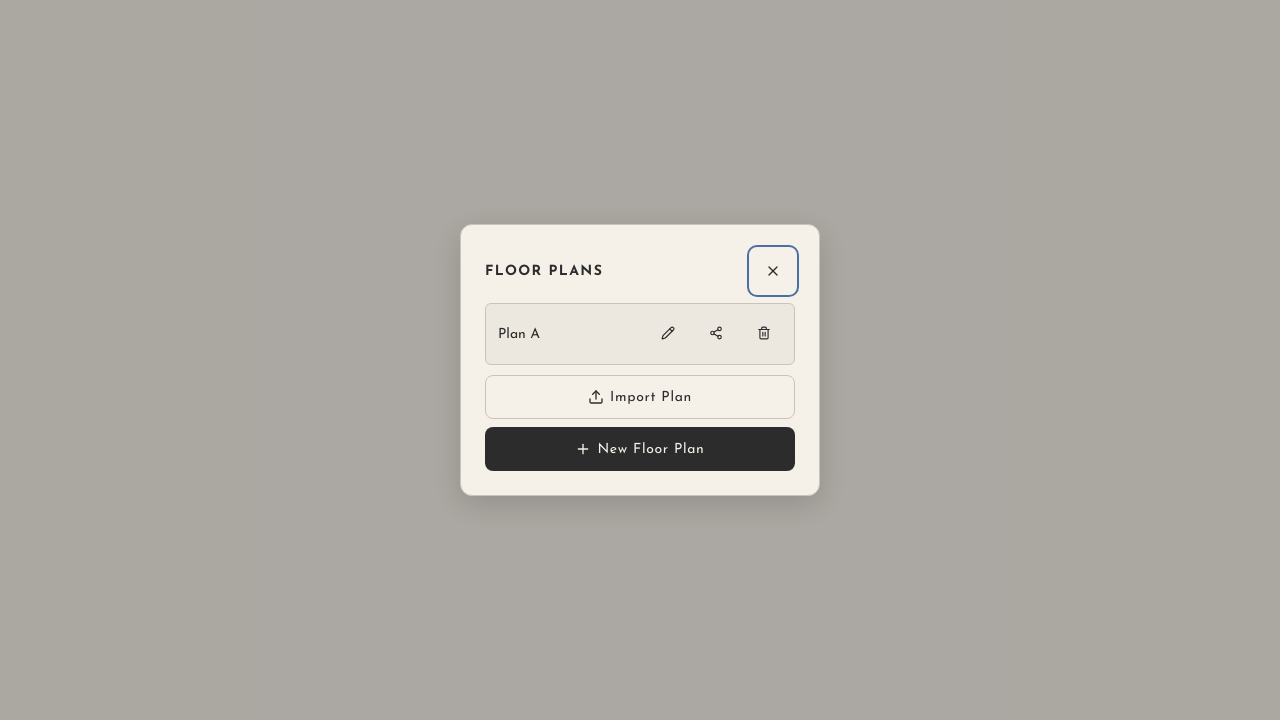
FloorplanManager › shows rename input when rename button is clicked
The width and height of the screenshot is (1280, 720).
Click the button named "Rename \"Plan A\"" at (668, 334), box [646,312,690,356]
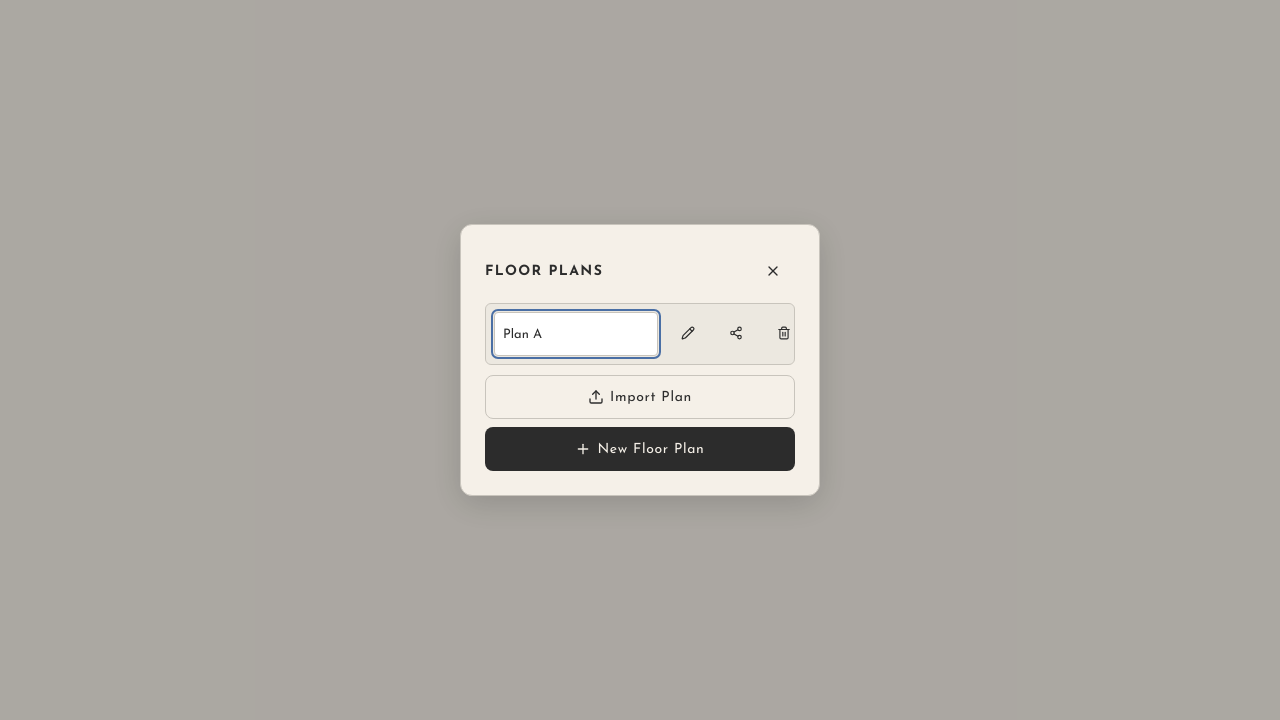
Now the field named "Rename plan" is shown, box [494,312,658,356]
